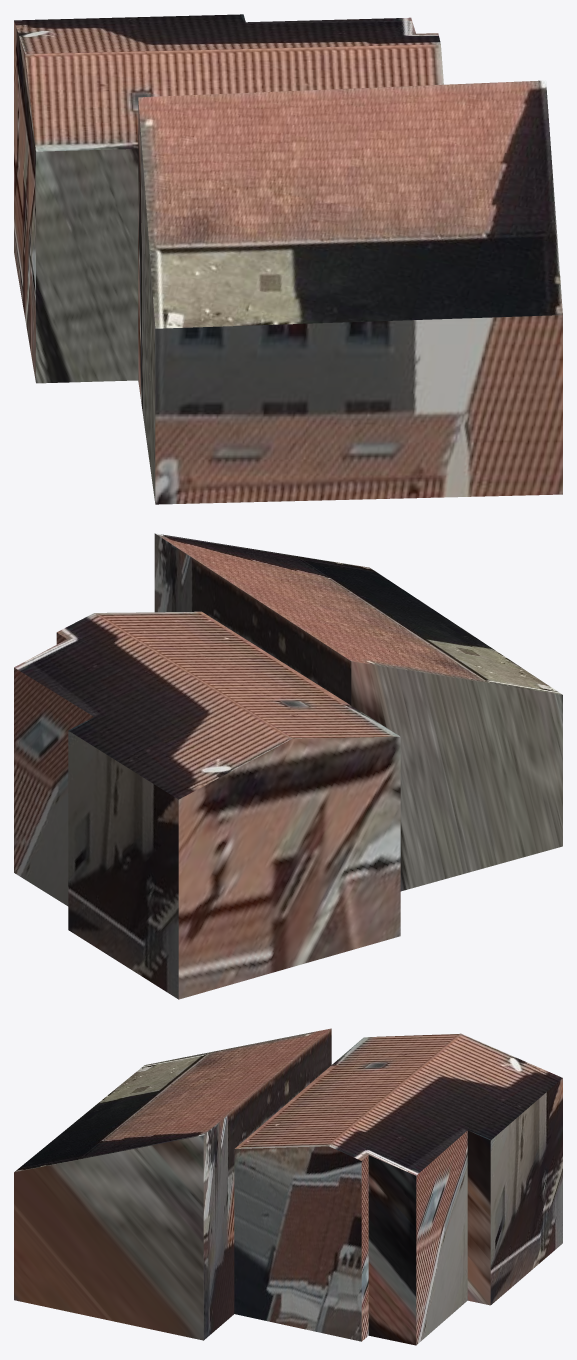
The picture shows the model from 3 angles, top to bottom: view 1: azimuth 30°, elevation 25°; view 2: azimuth 150°, elevation 25°; view 3: azimuth 270°, elevation 25°; orthographic projection. The views are drawn at different scales.
Visible parts, largest first — view 1: Z_UP; view 2: Z_UP; view 3: Z_UP.
Boxes of the visible parts, x1,y1,x2,y2 form: Z_UP: (14, 14, 562, 504); Z_UP: (14, 533, 562, 999); Z_UP: (14, 1028, 562, 1345).
Size of the model in its own units: 14.36 by 8.86 by 21.47.
Materials: 2 (1 with a texture image).
